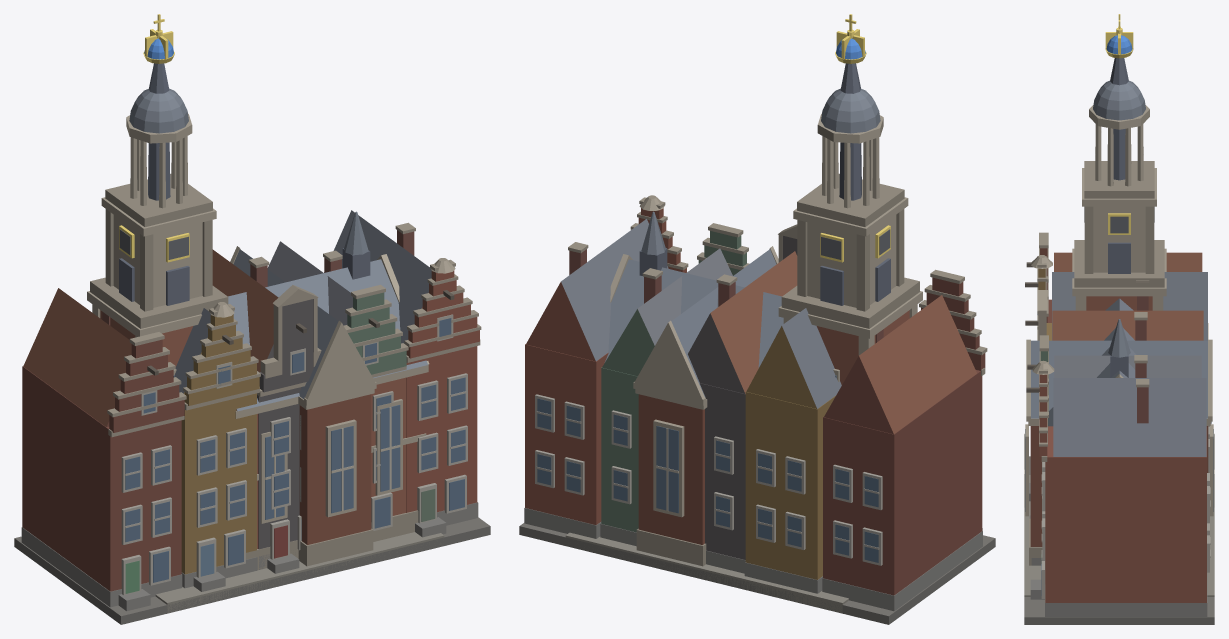
Rendered from amsterdam_landmarks.glb.
3 renders of one model, left to right at view 1: azimuth 30°, elevation 25°; view 2: azimuth 150°, elevation 25°; view 3: azimuth 270°, elevation 25°, orthographic. The views are drawn at different scales.
Parts seen in each view (by area): view 1: AMSTERDAM_CANAL_HOUSES, WESTERKERK; view 2: AMSTERDAM_CANAL_HOUSES, WESTERKERK; view 3: AMSTERDAM_CANAL_HOUSES, WESTERKERK.
Part boxes in pixels (x1,y1,x2,y2): AMSTERDAM_CANAL_HOUSES: (14,210,490,624); WESTERKERK: (87,14,444,613); AMSTERDAM_CANAL_HOUSES: (519,195,995,624); WESTERKERK: (565,14,922,613); AMSTERDAM_CANAL_HOUSES: (1024,232,1214,624); WESTERKERK: (1024,14,1214,596).
Bounding box in the file's own units: 8 × 11.36 × 4.
